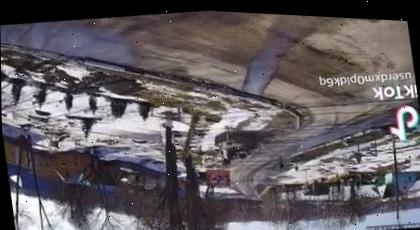person: (278, 157, 285, 171)
sau: (213, 126, 262, 168)
